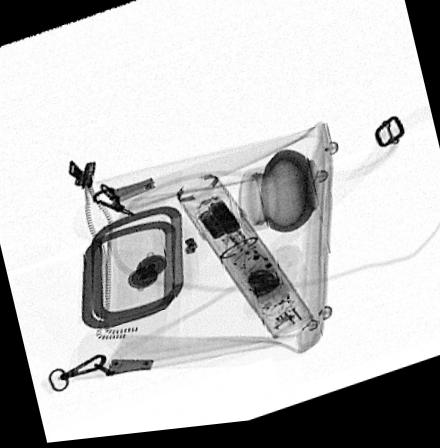Baton: (173, 177, 314, 344)
